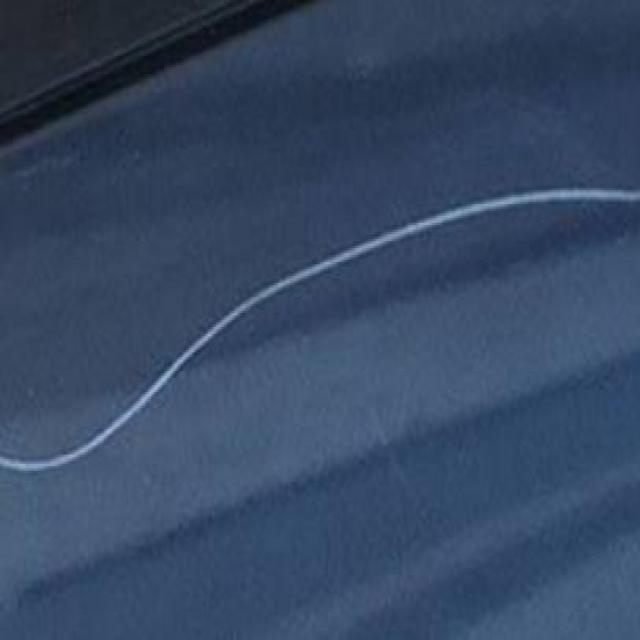scratch: (2, 175, 632, 493)
